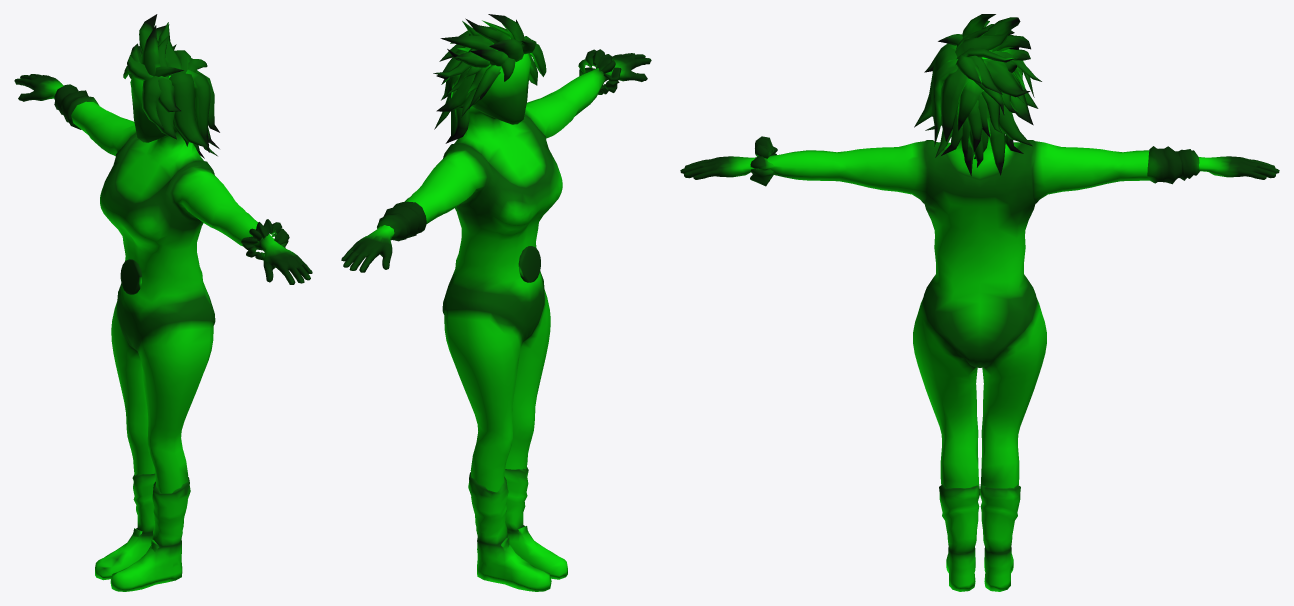
File: SM_CharacterAero_rotate_002.fbx
The picture shows the model from 3 angles, left to right: view 1: azimuth 30°, elevation 25°; view 2: azimuth 150°, elevation 25°; view 3: azimuth 270°, elevation 25°; orthographic projection. The views are drawn at different scales.
Parts seen in each view (by area): view 1: retopopersosmashlowpoly:retopopersosmashlowpoly:retopopersos; view 2: retopopersosmashlowpoly:retopopersosmashlowpoly:retopopersos; view 3: retopopersosmashlowpoly:retopopersosmashlowpoly:retopopersos.
Boxes of the visible parts, x1,y1,x2,y2 form: retopopersosmashlowpoly:retopopersosmashlowpoly:retopopersos: (14,14,312,591); retopopersosmashlowpoly:retopopersosmashlowpoly:retopopersos: (341,14,651,591); retopopersosmashlowpoly:retopopersosmashlowpoly:retopopersos: (680,14,1279,591).
Size of the model in its own units: 65.56 by 320 by 302.
